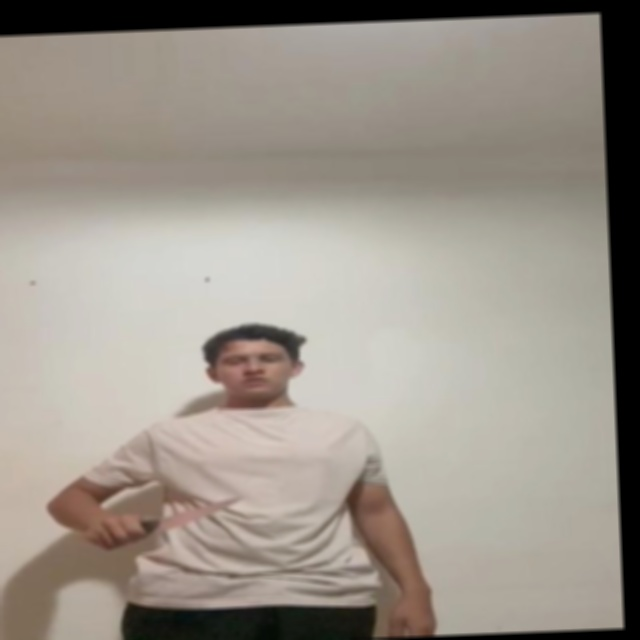Sharp-Object: (157, 500, 237, 527)
